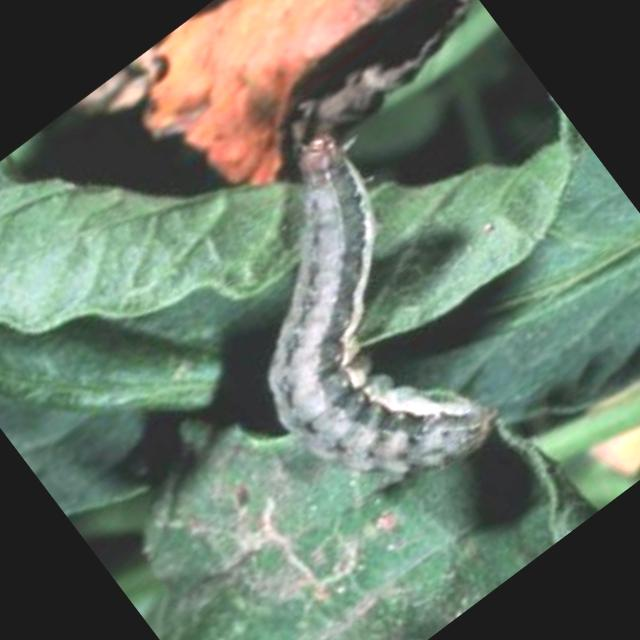Beet armyworm: (67, 42, 607, 590)
